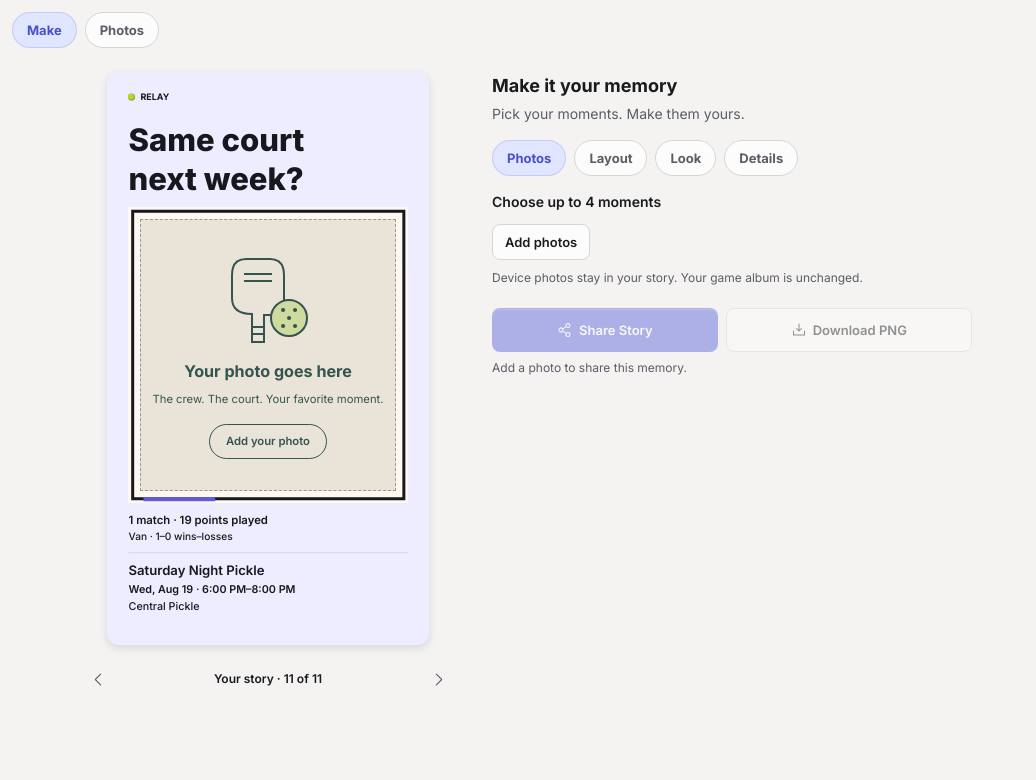
falls back to stored photo usage when no allowance is provided
Click the button with aria-label "Photos, 0" at (122, 30), box [85,12,159,48]
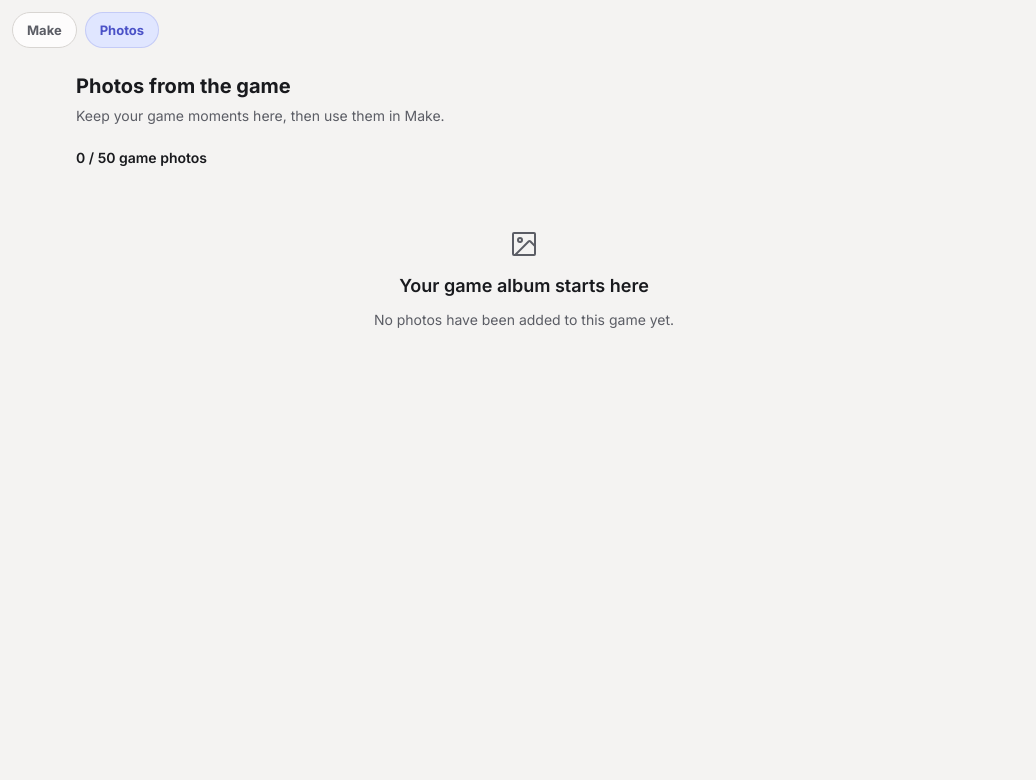
Expected: the heading "0 / 50 game photos" is shown, [76,149,207,166]
